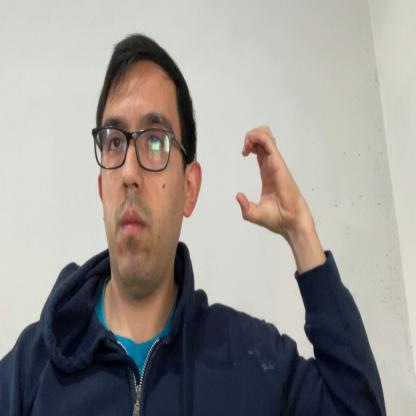C: (236, 126, 296, 235)
